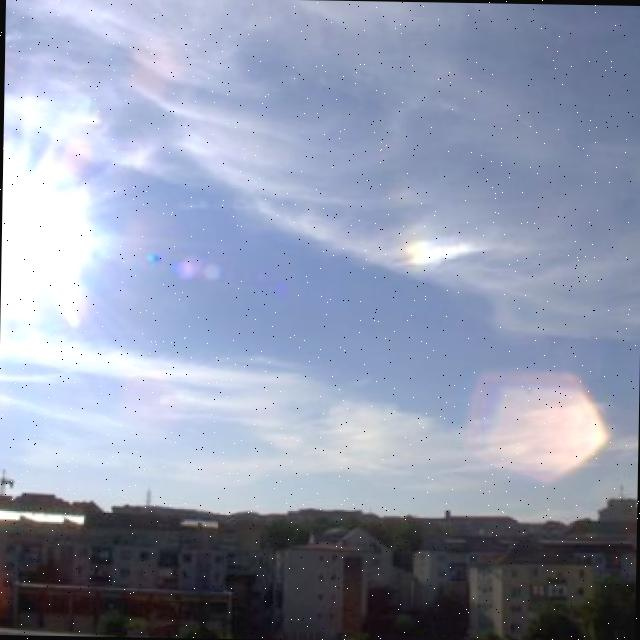Ci: (1, 8, 640, 425)
